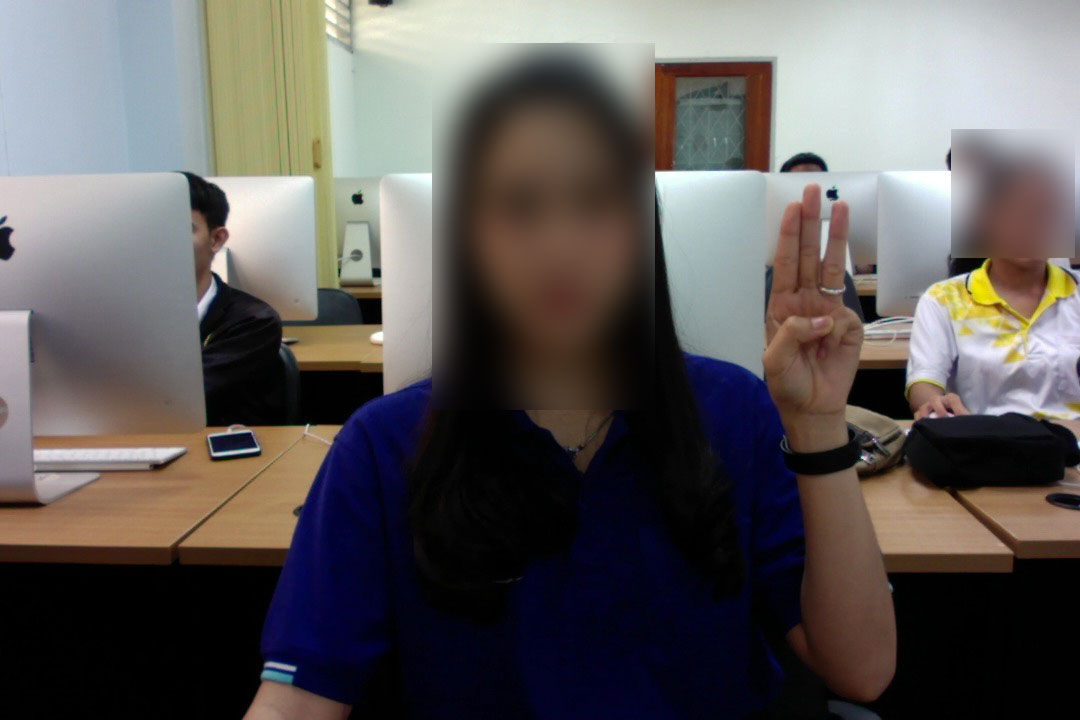wor: (745, 175, 886, 426)
